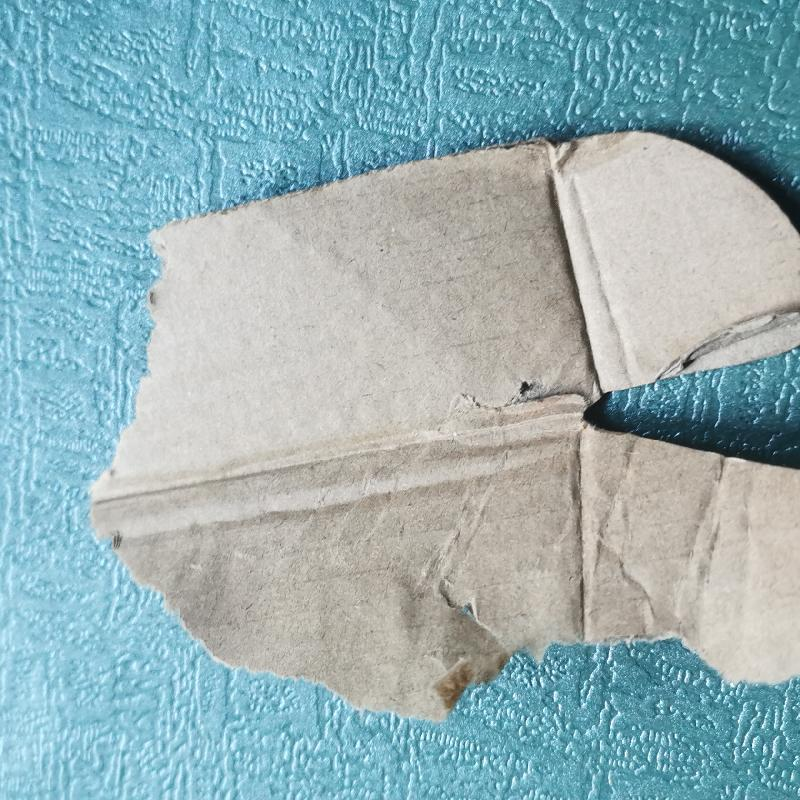boxes: (84, 126, 799, 734)
